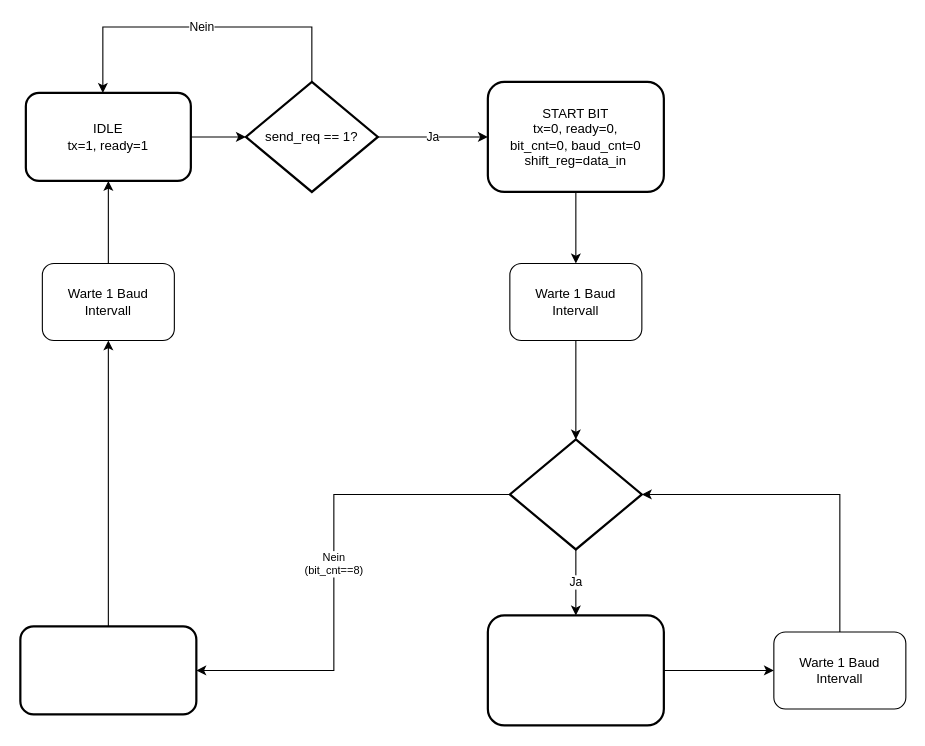
This 925x746 diagram has some shape labels left out. Each missing label, with the centre of its shape:
"bit_cnt < 8?" goes at (575,494).
"DATENBIT tx=shift_reg[0] ready=0, shift_reg >> 1 bit_cnt++" goes at (575,670).
"STOPBIT tx=1, ready=0" goes at (108,670).
